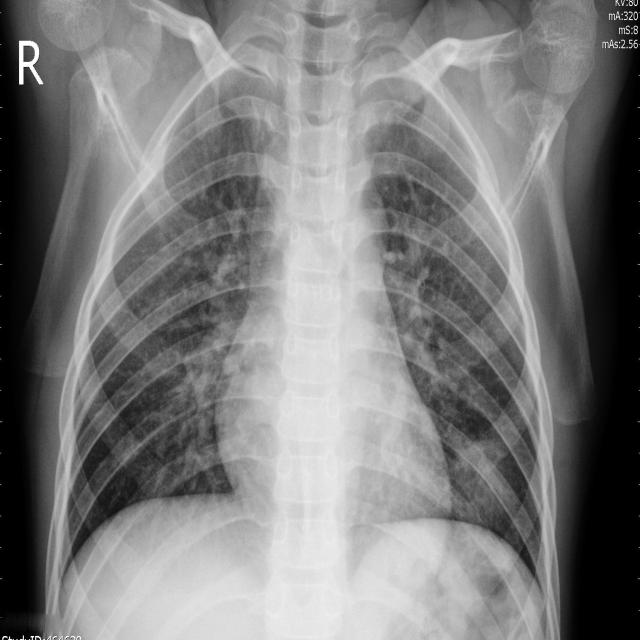low-pneumonia: (168, 226, 243, 457), (391, 222, 469, 411)
